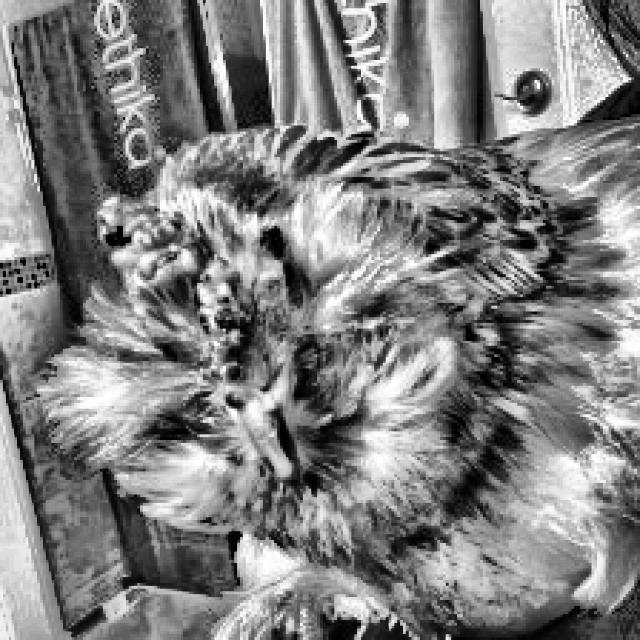Fowlpox: (74, 167, 302, 394)
